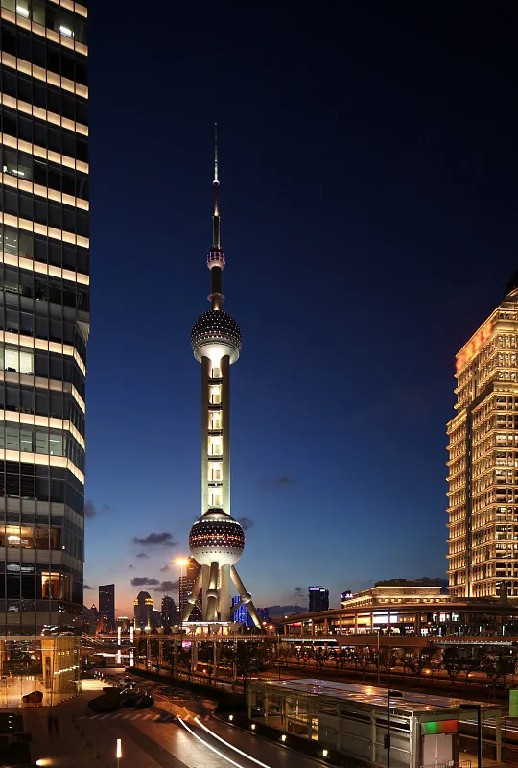Oriental: (177, 121, 264, 629)
